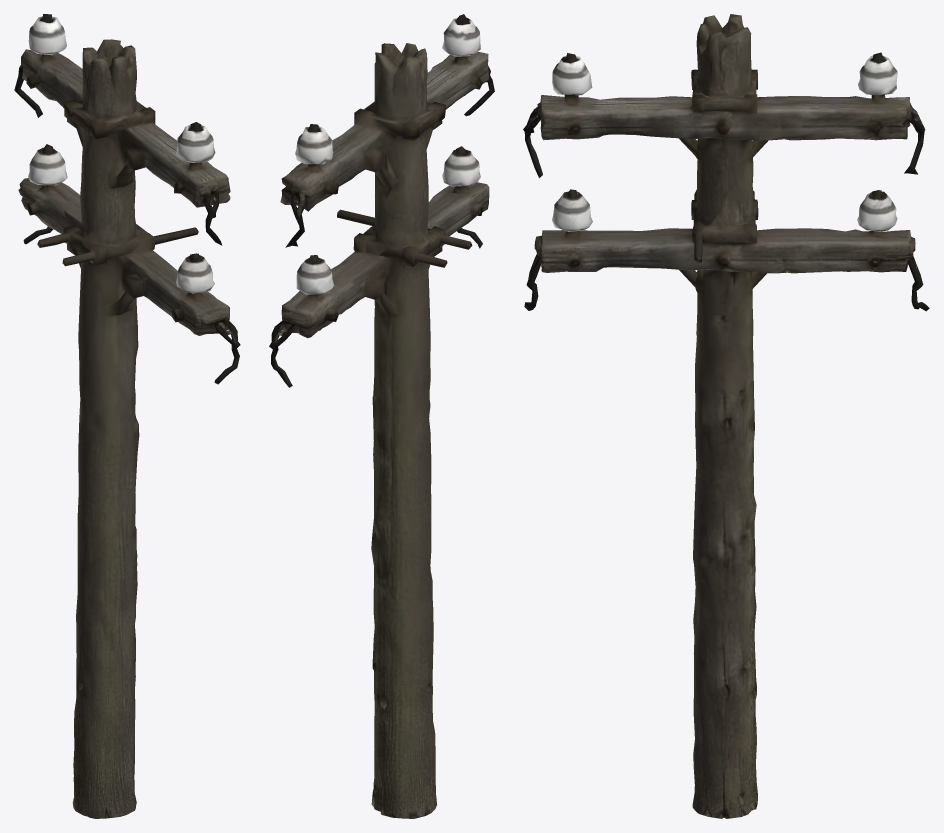
File: prop_pole.glb
3 views of the same model, side by side, from view 1: azimuth 30°, elevation 25°; view 2: azimuth 150°, elevation 25°; view 3: azimuth 270°, elevation 25° (orthographic). The views are drawn at different scales.
Visible parts, largest first — view 1: tripo_node_ae03e8a3-3fc2-4e2a-b697-e08da54dafc2; view 2: tripo_node_ae03e8a3-3fc2-4e2a-b697-e08da54dafc2; view 3: tripo_node_ae03e8a3-3fc2-4e2a-b697-e08da54dafc2.
Boxes of the visible parts, x1,y1,x2,y2 form: tripo_node_ae03e8a3-3fc2-4e2a-b697-e08da54dafc2: (14, 14, 240, 818); tripo_node_ae03e8a3-3fc2-4e2a-b697-e08da54dafc2: (269, 14, 494, 818); tripo_node_ae03e8a3-3fc2-4e2a-b697-e08da54dafc2: (523, 14, 929, 818).
Size of the model in its own units: 0.1835 by 1 by 0.4707.
Materials: 1 (1 with a texture image).
